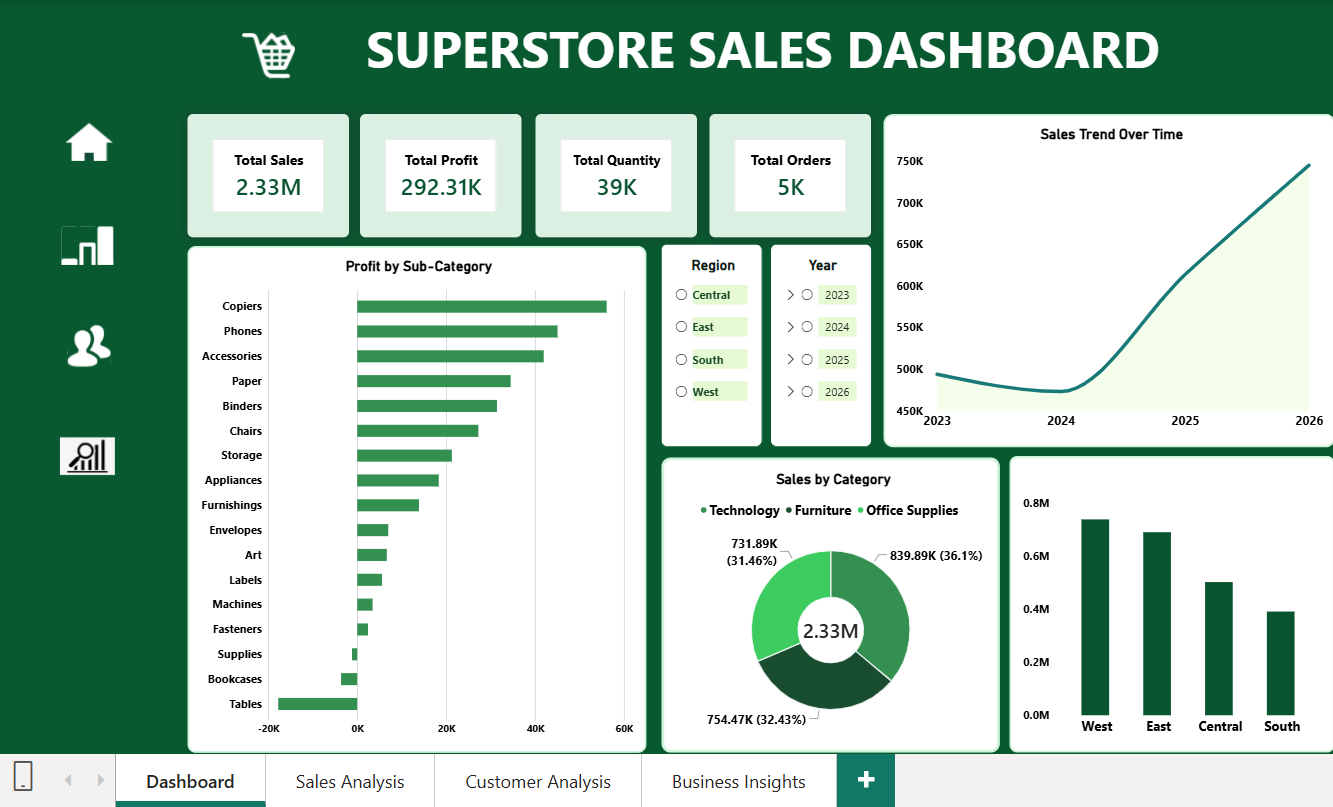

This screenshot's page, from the dashboard's own definition file:
{"tool":"powerbi","page":{"name":"Dashboard","canvas":[1920,1080],"ordinal":0},"visuals":[{"type":"textbox","box":[272,19.1,1648.7,119.3],"z":2000},{"type":"cardVisual","fields":{"Data":["superstore_project orders.Total Sales"]},"box":[272,162.2,231.4,176.6],"z":3000},{"type":"cardVisual","fields":{"Data":["superstore_project orders.Total Profit"]},"box":[520.1,162.2,231.4,176.6],"z":4000},{"type":"cardVisual","fields":{"Data":["superstore_project orders.Total Quantity"]},"box":[770.7,162.2,231.4,176.6],"z":5000},{"type":"cardVisual","fields":{"Data":["superstore_project orders.Total Orders"]},"box":[1021.2,162.2,231.4,176.6],"z":6000},{"type":"lineChart","title":"Sales Trend Over Time","fields":{"Category":["superstore_project orders.Order_Date.Variation.Date Hierarchy.Year","superstore_project orders.Order_Date.Variation.Date Hierarchy.Quarter","superstore_project orders.Order_Date.Variation.Date Hierarchy.Month","superstore_project orders.Order_Date.Variation.Date Hierarchy.Day"],"Y":["Sum(superstore_project orders.Sales)"]},"box":[1269.3,162.4,649,477.2],"z":7000},{"type":"donutChart","title":"Sales by Category","fields":{"Category":["superstore_project orders.Category"],"Y":["superstore_project orders.Total Sales"]},"box":[952.4,654.8,484.7,422.4],"z":8000},{"type":"clusteredBarChart","title":" Profit by Sub-Category","fields":{"Category":["superstore_project orders.Sub_Category"],"Y":["superstore_project orders.Total Profit"]},"box":[272.1,351.5,657.6,725.7],"z":9000},{"type":"clusteredColumnChart","title":"Sales by Region","fields":{"Category":["superstore_project orders.Region"],"Y":["Sum(superstore_project orders.Sales)"]},"box":[1451,652.5,467.6,424.7],"z":10000},{"type":"listSlicer","fields":{"Values":["superstore_project orders.Region"]},"box":[952,350.7,143.2,288.7],"z":11000},{"type":"listSlicer","fields":{"Values":["superstore_project orders.Order_Date.Variation.Date Hierarchy.Year","superstore_project orders.Order_Date.Variation.Date Hierarchy.Quarter","superstore_project orders.Order_Date.Variation.Date Hierarchy.Month","superstore_project orders.Order_Date.Variation.Date Hierarchy.Day"]},"box":[1109.5,350.7,143.2,288.7],"z":12000},{"type":"actionButton","box":[82.2,161.6,100.2,69.2],"z":13000},{"type":"actionButton","box":[79.4,320.3,100.2,59.6],"z":14000},{"type":"actionButton","box":[83.5,417.5,100.2,102.6],"z":15000},{"type":"actionButton","box":[322.1,42.9,133.6,69.2],"z":16000},{"type":"actionButton","box":[79.4,606.6,100.2,95.4],"z":17000},{"type":"actionButton","box":[82.2,459.2,100.2,71.6],"z":18000}]}

Visuals, with their boxes on the page's 1920x1080 design canvas (x1, y1, x2, y2). These are canvas units, not pixel positions in the 1333x807 screenshot, which may show the page scaled, cropped or inside an application window:
textbox: [272,19,1921,138]
cardVisual - superstore_project orders.Total Sales: [272,162,503,339]
cardVisual - superstore_project orders.Total Profit: [520,162,752,339]
cardVisual - superstore_project orders.Total Quantity: [771,162,1002,339]
cardVisual - superstore_project orders.Total Orders: [1021,162,1253,339]
"Sales Trend Over Time" lineChart: [1269,162,1918,640]
"Sales by Category" donutChart: [952,655,1437,1077]
" Profit by Sub-Category" clusteredBarChart: [272,352,930,1077]
"Sales by Region" clusteredColumnChart: [1451,652,1919,1077]
listSlicer - superstore_project orders.Region: [952,351,1095,639]
listSlicer - superstore_project orders.Order_Date.Variation.Date Hierarchy.Year x superstore_project orders.Order_Date.Variation.Date Hierarchy.Quarter: [1110,351,1253,639]
actionButton: [82,162,182,231]
actionButton: [79,320,180,380]
actionButton: [84,418,184,520]
actionButton: [322,43,456,112]
actionButton: [79,607,180,702]
actionButton: [82,459,182,531]
